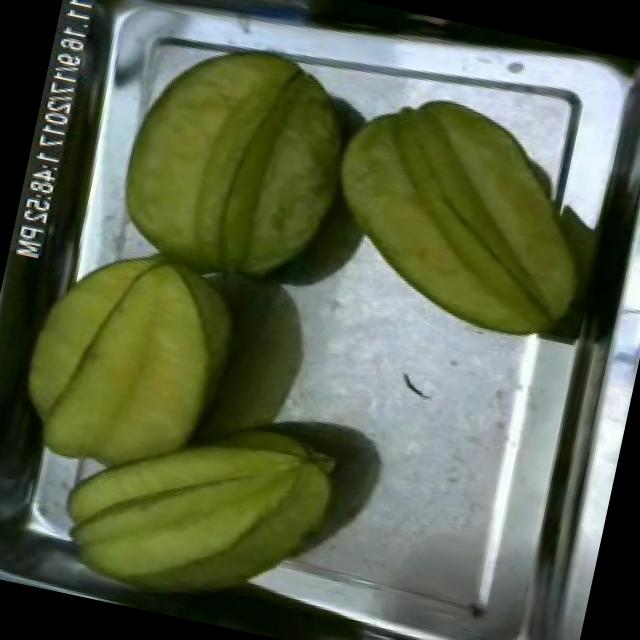fruit: (296, 64, 624, 362), (33, 380, 356, 640), (96, 15, 377, 312), (0, 215, 259, 518)
